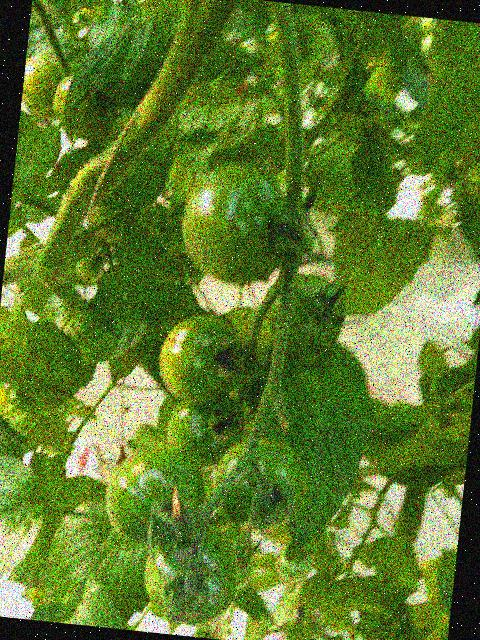l_green: (176, 157, 295, 288), (100, 441, 211, 552), (139, 518, 245, 632), (209, 432, 312, 532), (154, 311, 249, 408), (257, 268, 350, 361), (163, 391, 248, 471), (50, 68, 120, 143), (20, 50, 66, 123), (273, 544, 315, 585), (84, 204, 125, 246), (224, 539, 256, 591), (0, 427, 27, 471), (73, 253, 102, 284)
